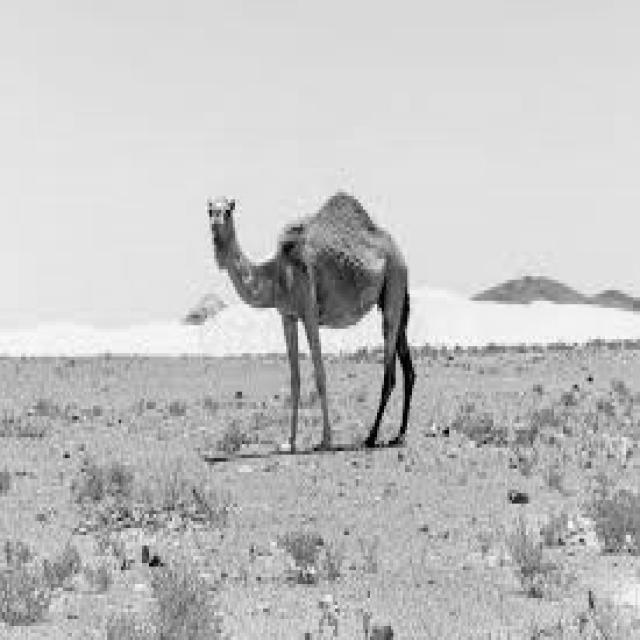Camel: (205, 189, 414, 451)
